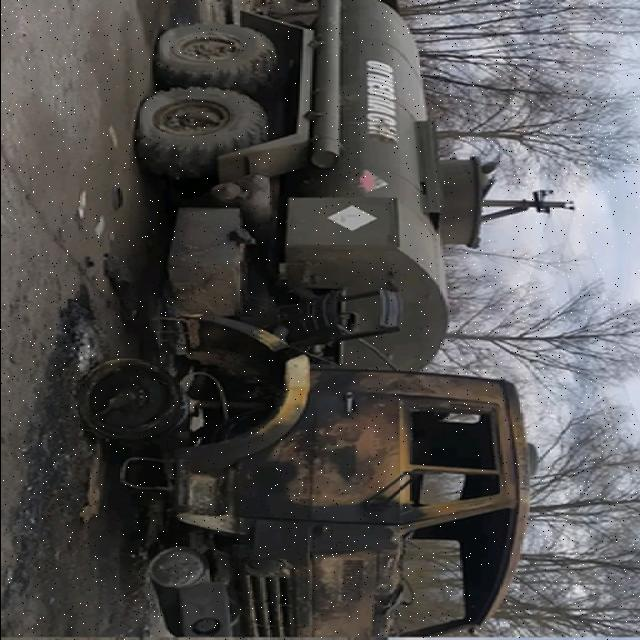TRUCK: (78, 0, 542, 636)
